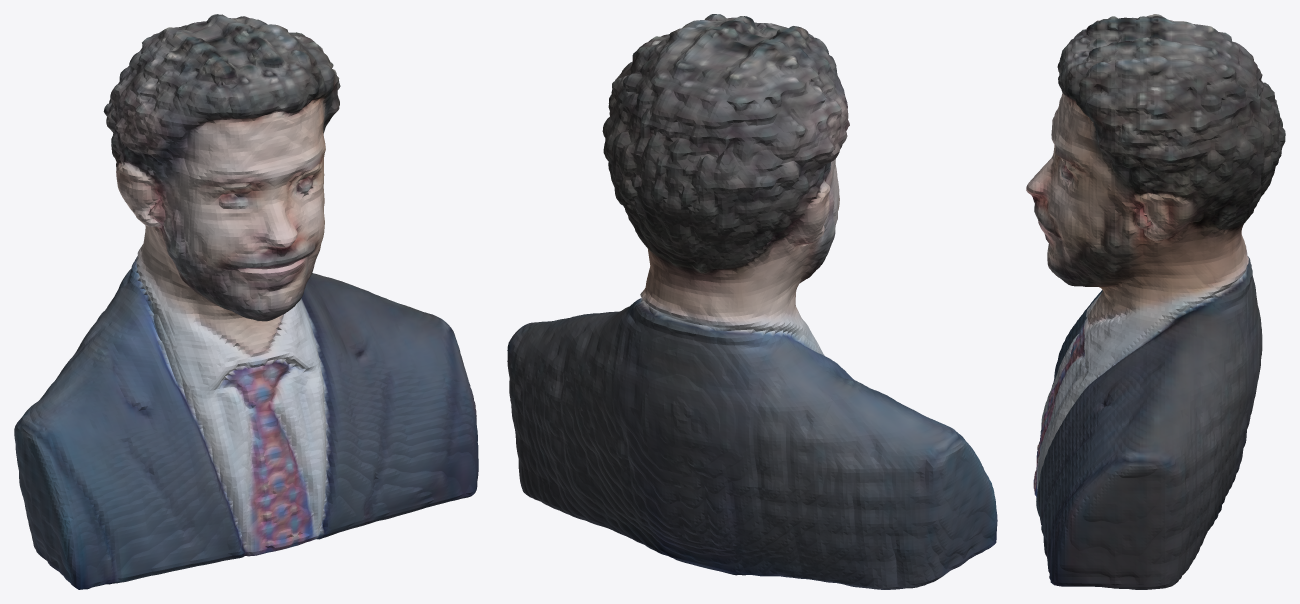
File: amine.glb
The picture shows the model from 3 angles, left to right: view 1: azimuth 30°, elevation 25°; view 2: azimuth 150°, elevation 25°; view 3: azimuth 270°, elevation 25°; orthographic projection. The views are drawn at different scales.
Parts seen in each view (by area): view 1: amine.glb; view 2: amine.glb; view 3: amine.glb.
Part boxes in pixels (x1=…): amine.glb: x1=14, y1=14, x2=478, y2=589; amine.glb: x1=507, y1=14, x2=997, y2=589; amine.glb: x1=1026, y1=14, x2=1285, y2=589.
Bounding box in the file's own units: 0.9079 × 0.9953 × 0.4948.
